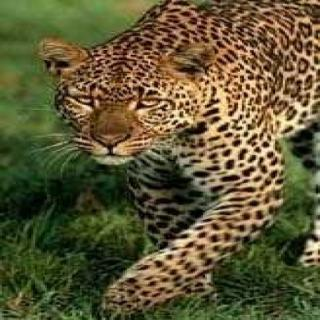Leopard: (39, 0, 320, 299)
